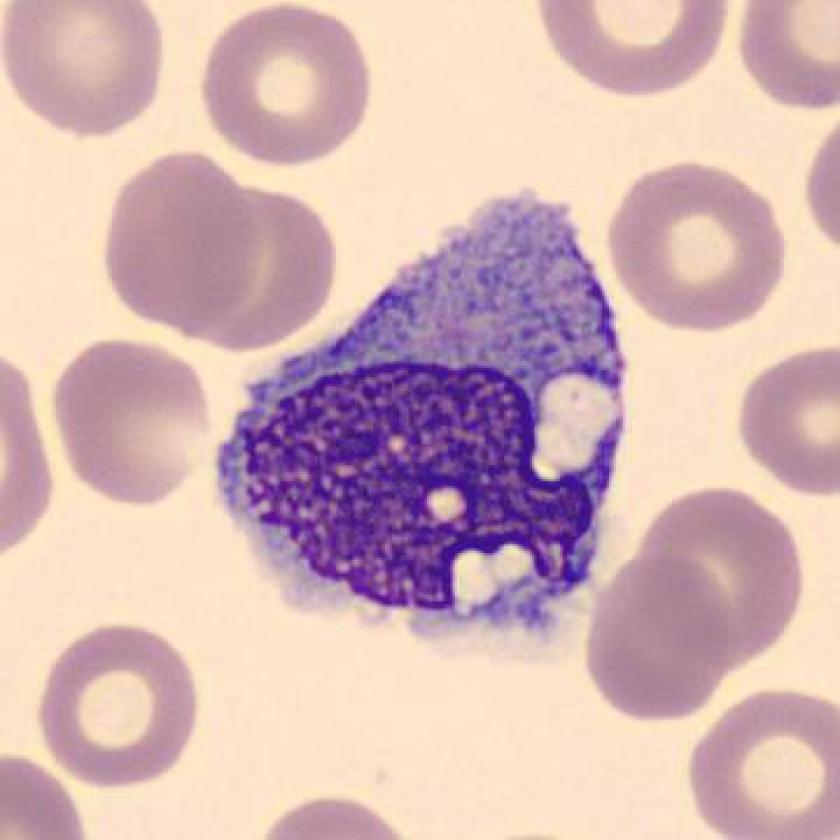monocyte: (197, 163, 650, 677)
